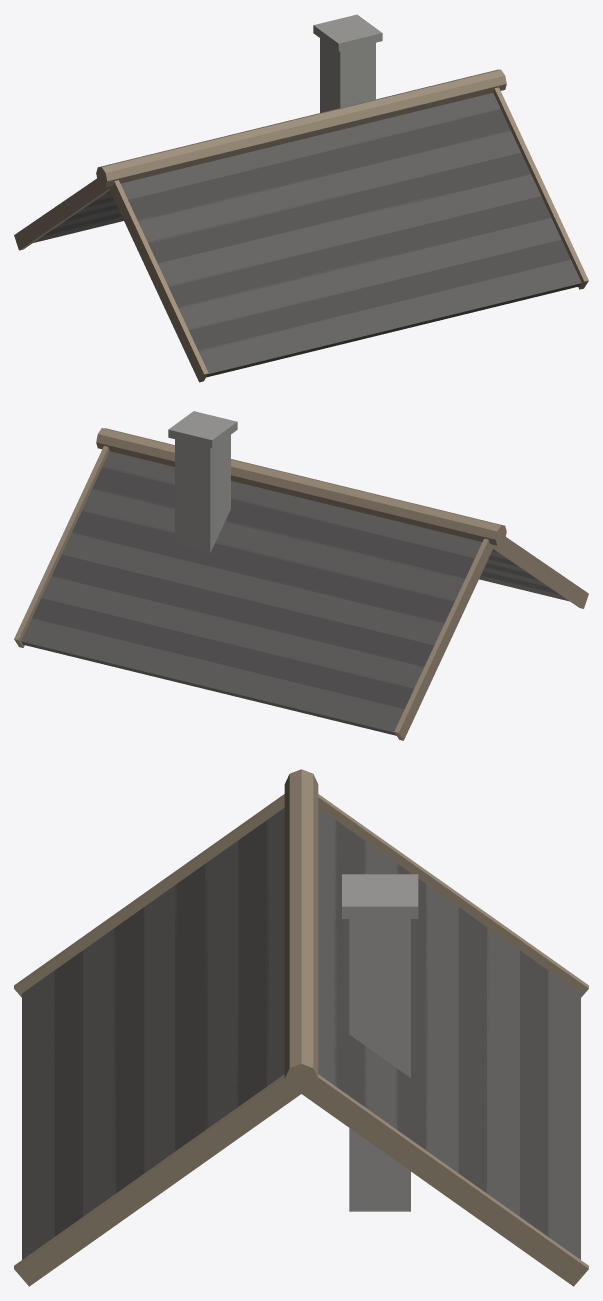
File: IzbaRoof.fbx
3 views of the same model, one above another, from view 1: azimuth 30°, elevation 25°; view 2: azimuth 150°, elevation 25°; view 3: azimuth 270°, elevation 25° (orthographic). The views are drawn at different scales.
Parts seen in each view (by area): view 1: IzbaRoof; view 2: IzbaRoof; view 3: IzbaRoof.
Boxes of the visible parts, left/top/right/bottom form: IzbaRoof: left=14, top=14, right=588, bottom=382; IzbaRoof: left=14, top=411, right=588, bottom=740; IzbaRoof: left=14, top=769, right=588, bottom=1286.
Size of the model in its own units: 620 by 302 by 511.
